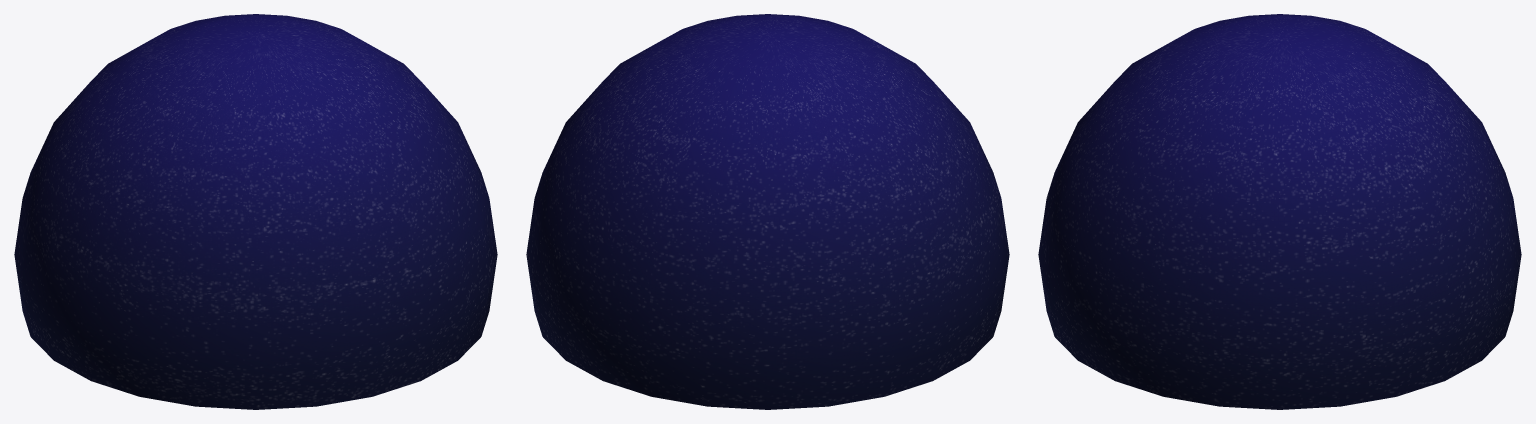
The model's file is skydome.obj.
The picture shows the model from 3 angles, left to right: view 1: azimuth 30°, elevation 25°; view 2: azimuth 150°, elevation 25°; view 3: azimuth 270°, elevation 25°; orthographic projection.
Parts seen in each view (by area): view 1: Sphere001; view 2: Sphere001; view 3: Sphere001.
Boxes of the visible parts, left/top/right/bottom form: Sphere001: left=14, top=14, right=497, bottom=409; Sphere001: left=526, top=14, right=1009, bottom=409; Sphere001: left=1038, top=14, right=1521, bottom=409.
Bounding box in the file's own units: 200 × 126 × 200.
Materials: 1 (1 with a texture image).
